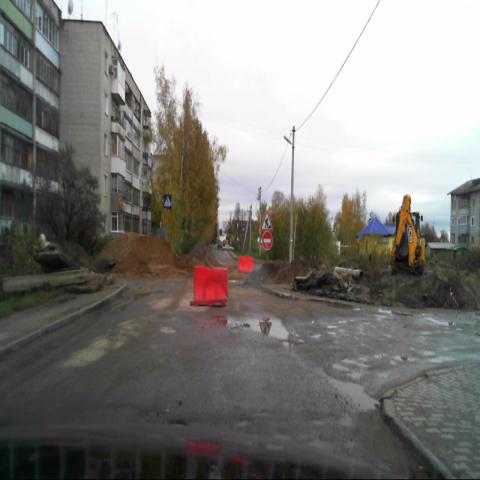1_25: (260, 211, 273, 230)
